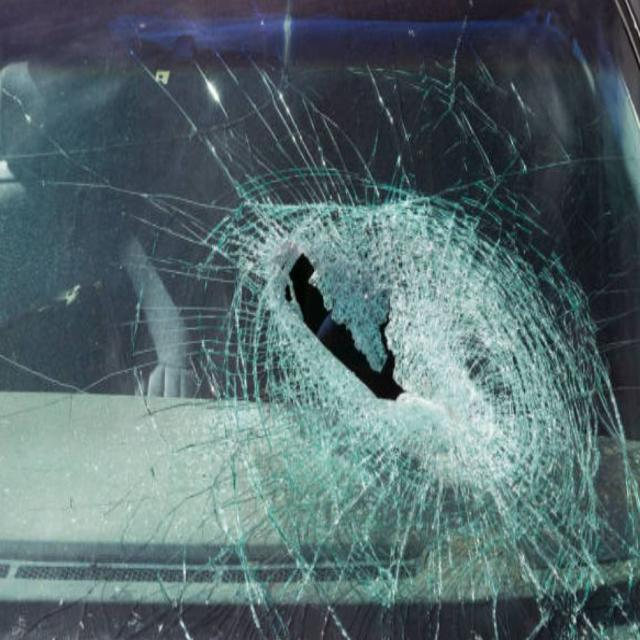electronic: (152, 133, 639, 640)
